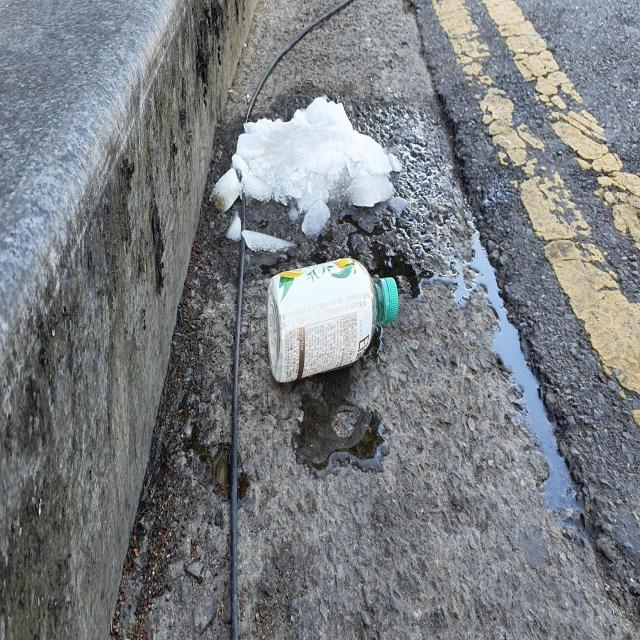plastic: (267, 257, 399, 382)
